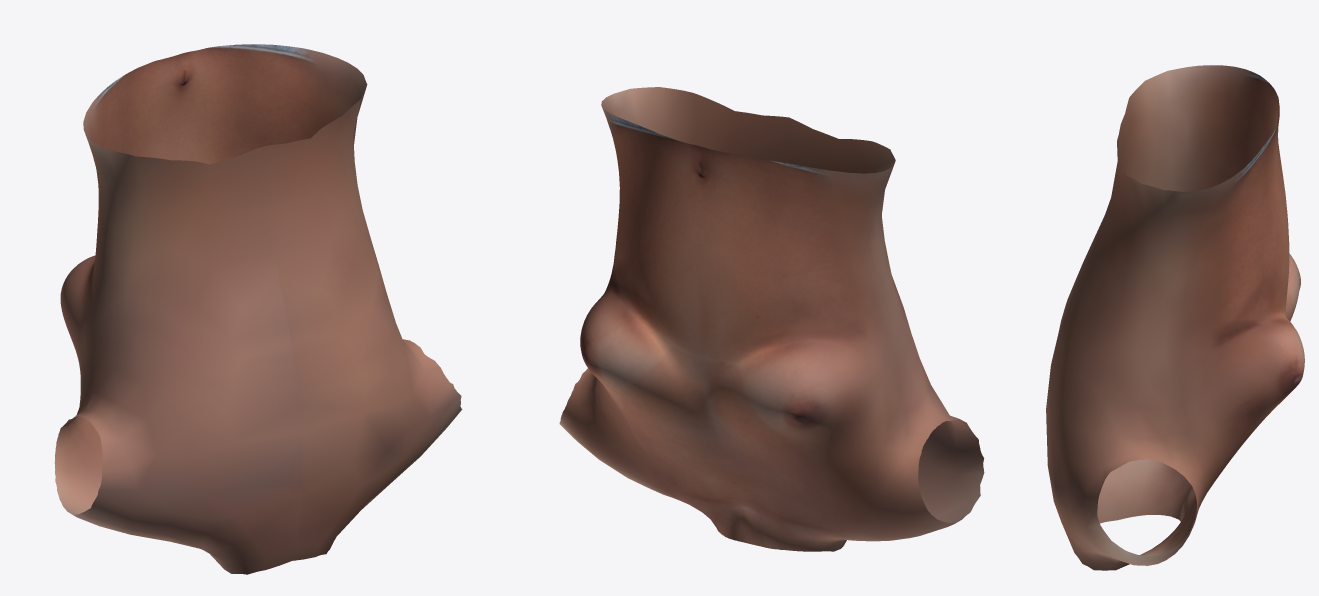
Rendered from fitModel_Hgcutc.obj.
The picture shows the model from 3 angles, left to right: view 1: azimuth 30°, elevation 25°; view 2: azimuth 150°, elevation 25°; view 3: azimuth 270°, elevation 25°; orthographic projection. The views are drawn at different scales.
Bounding box in the file's own units: 47.38 × 47.53 × 22.93.
1 material, 1 textured.
